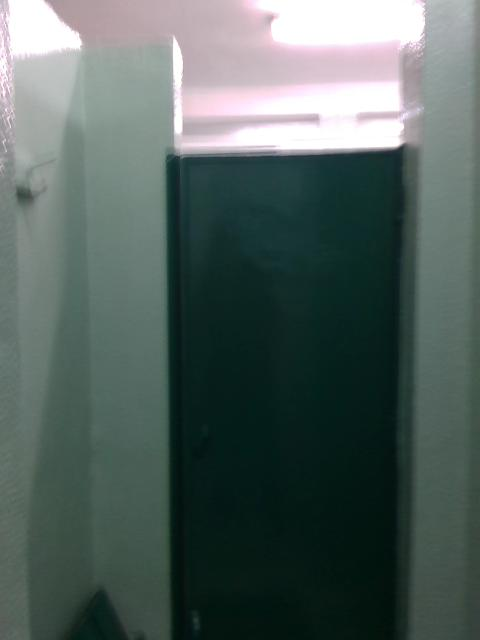door: (168, 155, 417, 625)
